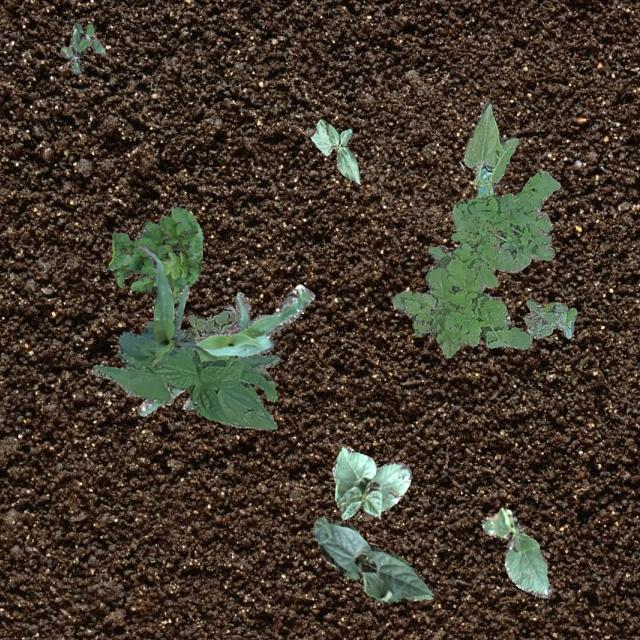crop: (136, 284, 314, 416), (90, 320, 278, 428), (312, 516, 432, 604), (450, 101, 518, 232), (138, 244, 198, 366), (480, 506, 550, 596), (332, 446, 411, 518), (310, 118, 360, 184)
weed: (392, 170, 560, 358), (106, 204, 202, 300), (60, 22, 104, 74), (524, 298, 576, 338), (184, 304, 236, 342)
